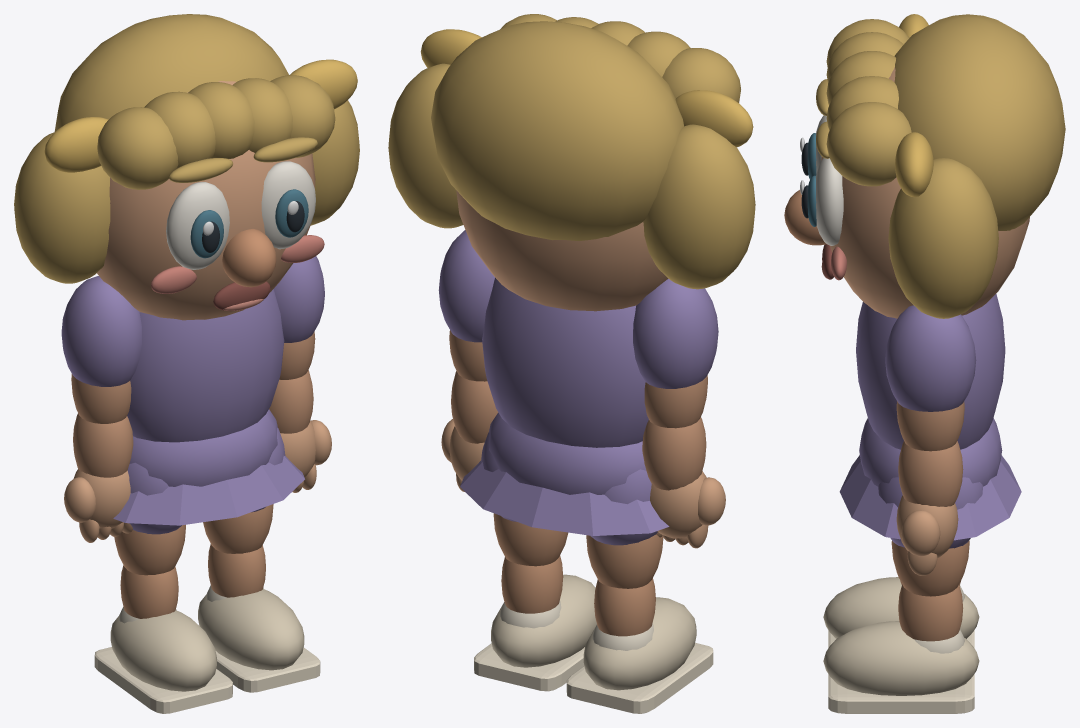
The model's file is lilah.glb.
The picture shows the model from 3 angles, left to right: view 1: azimuth 30°, elevation 25°; view 2: azimuth 150°, elevation 25°; view 3: azimuth 270°, elevation 25°; orthographic projection. The views are drawn at different scales.
Parts seen in each view (by area): view 1: lilah_head_mesh, lilah_torso_mesh, lilah_shinL_mesh, lilah_shinR_mesh, lilah_armL_mesh, lilah_foreL_mesh, lilah_armR_mesh, lilah_foreR_mesh, lilah_legL_mesh, lilah_legR_mesh; view 2: lilah_head_mesh, lilah_torso_mesh, lilah_shinL_mesh, lilah_shinR_mesh, lilah_armL_mesh, lilah_foreL_mesh, lilah_armR_mesh, lilah_legL_mesh, lilah_foreR_mesh, lilah_legR_mesh; view 3: lilah_head_mesh, lilah_torso_mesh, lilah_shinR_mesh, lilah_armR_mesh, lilah_foreR_mesh, lilah_shinL_mesh, lilah_legR_mesh.
Part boxes in pixels (bbox=[...]): lilah_head_mesh: bbox=[14, 14, 359, 320]; lilah_torso_mesh: bbox=[113, 289, 304, 525]; lilah_shinL_mesh: bbox=[94, 565, 232, 713]; lilah_shinR_mesh: bbox=[198, 544, 320, 692]; lilah_armL_mesh: bbox=[61, 276, 141, 423]; lilah_foreL_mesh: bbox=[64, 413, 133, 542]; lilah_armR_mesh: bbox=[274, 256, 324, 379]; lilah_foreR_mesh: bbox=[269, 370, 331, 492]; lilah_legL_mesh: bbox=[114, 462, 185, 575]; lilah_legR_mesh: bbox=[203, 428, 285, 553]; lilah_head_mesh: bbox=[388, 14, 755, 311]; lilah_torso_mesh: bbox=[460, 277, 669, 535]; lilah_shinL_mesh: bbox=[566, 578, 713, 713]; lilah_shinR_mesh: bbox=[474, 555, 596, 691]; lilah_armL_mesh: bbox=[633, 279, 718, 428]; lilah_foreL_mesh: bbox=[642, 417, 725, 548]; lilah_armR_mesh: bbox=[438, 230, 494, 381]; lilah_legL_mesh: bbox=[586, 469, 663, 588]; lilah_foreR_mesh: bbox=[441, 371, 498, 491]; lilah_legR_mesh: bbox=[481, 432, 568, 566]; lilah_head_mesh: bbox=[784, 14, 1065, 318]; lilah_torso_mesh: bbox=[839, 294, 1021, 540]; lilah_shinR_mesh: bbox=[823, 584, 979, 713]; lilah_armR_mesh: bbox=[885, 305, 976, 451]; lilah_foreR_mesh: bbox=[896, 441, 963, 575]; lilah_shinL_mesh: bbox=[823, 577, 979, 647]; lilah_legR_mesh: bbox=[878, 477, 982, 596].
Size of the model in its own units: 0.6322 by 1.13 by 0.4482.
